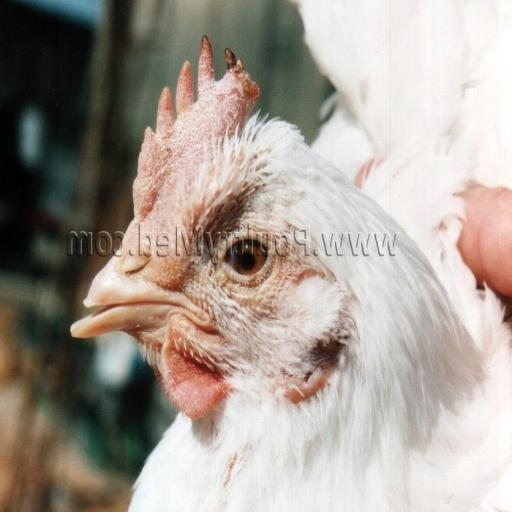disease: (185, 22, 255, 111), (146, 143, 192, 190)
